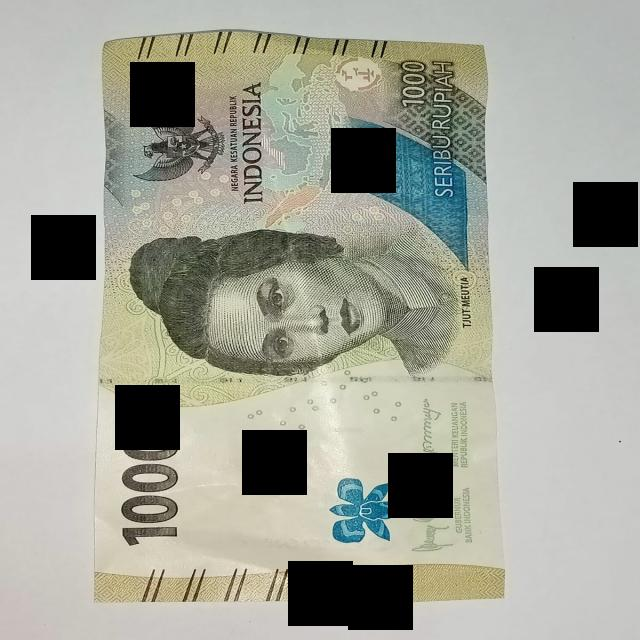seribu rupiah: (95, 31, 503, 602)
